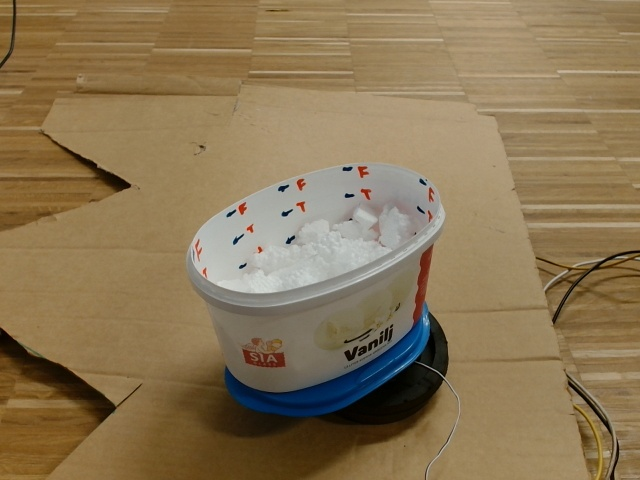Big_half: (185, 160, 447, 311)
